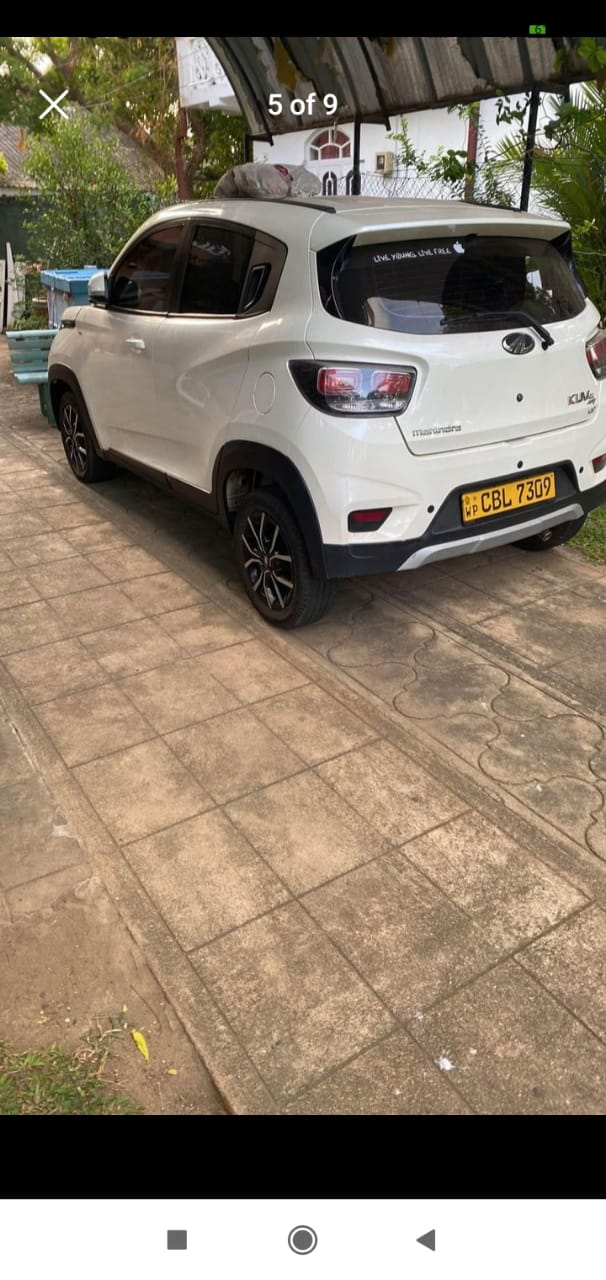number_plate: (458, 470, 566, 526)
